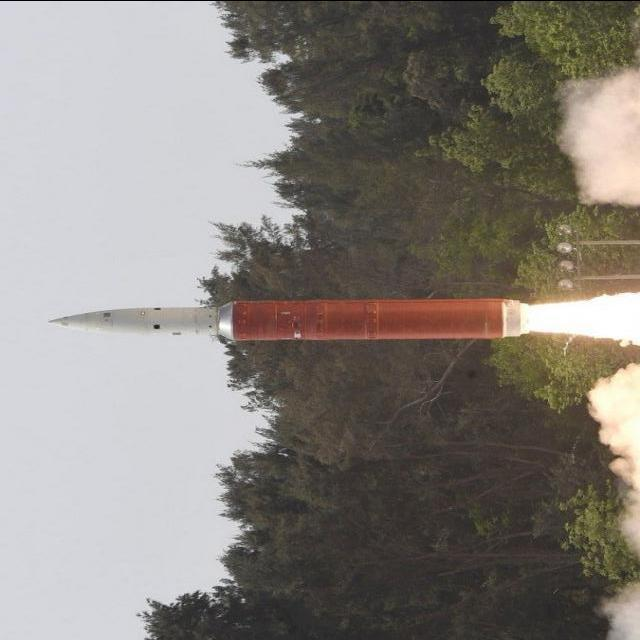Missile: (36, 283, 525, 352)
